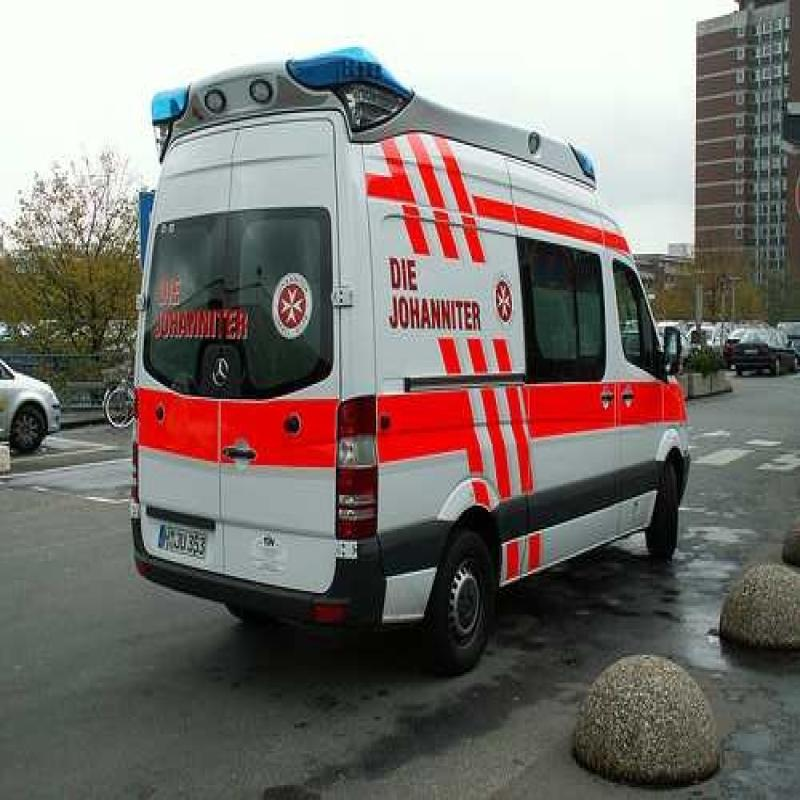AmbulanceSiren: (143, 38, 394, 134)
